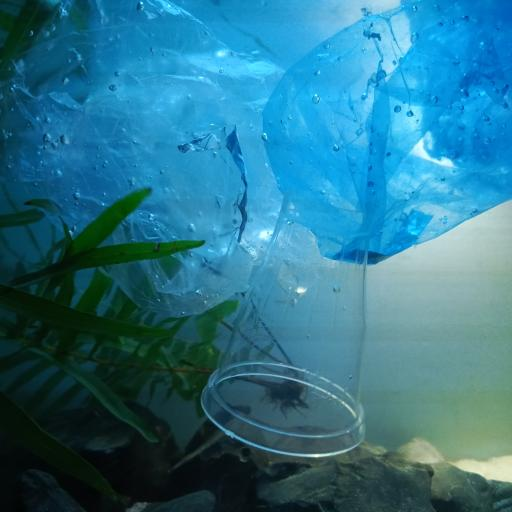plastic_bag: (0, 0, 308, 317), (260, 0, 512, 264)
plastic_cup: (200, 201, 370, 460)
